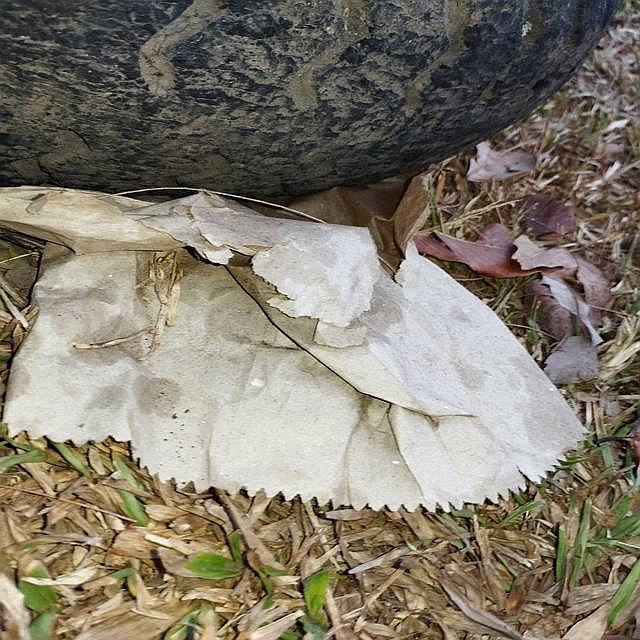Biodegradable: (1, 189, 591, 507)
